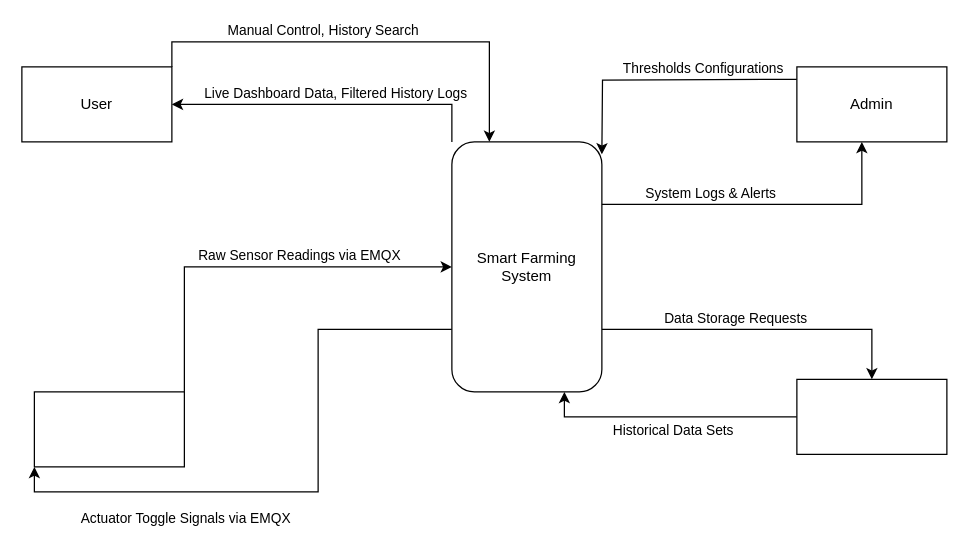
This 969x546 diagram has some shape labels left out. The shapes that lost their labels are listed below. From the top down, each one's box as (x1, y1, x2, y2) in pixels, then its label:
(33, 391, 184, 467): ESP32
(796, 378, 947, 454): Supabase
